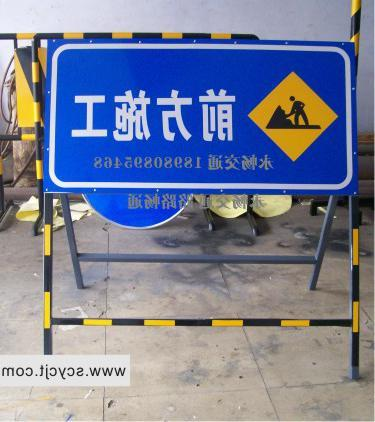sign: (44, 37, 354, 190)
